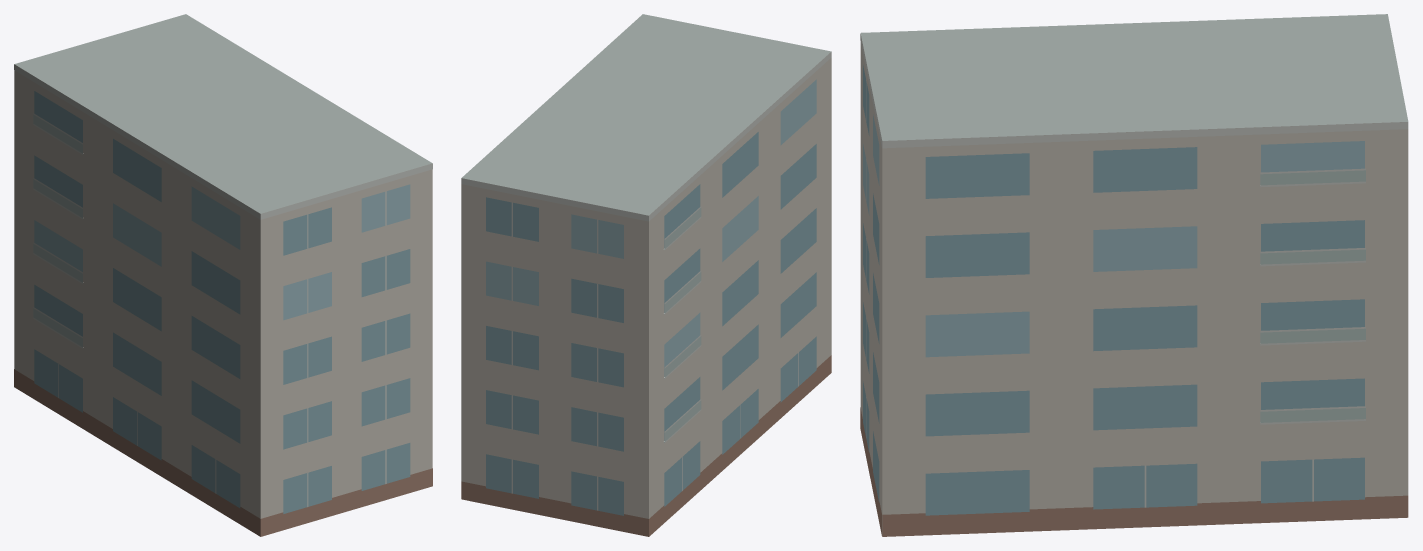
File: survey-upis-32750104.glb
3 views of the same model, side by side, from view 1: azimuth 30°, elevation 25°; view 2: azimuth 150°, elevation 25°; view 3: azimuth 270°, elevation 25° (orthographic). The views are drawn at different scales.
Parts seen in each view (by area): view 1: survey-upis-32750104.tmp; view 2: survey-upis-32750104.tmp; view 3: survey-upis-32750104.tmp.
Boxes of the visible parts, x1=… form: survey-upis-32750104.tmp: x1=14, y1=14, x2=432, y2=536; survey-upis-32750104.tmp: x1=461, y1=14, x2=831, y2=536; survey-upis-32750104.tmp: x1=860, y1=14, x2=1408, y2=536.
Size of the model in its own units: 9.09 by 13.2 by 16.57.
